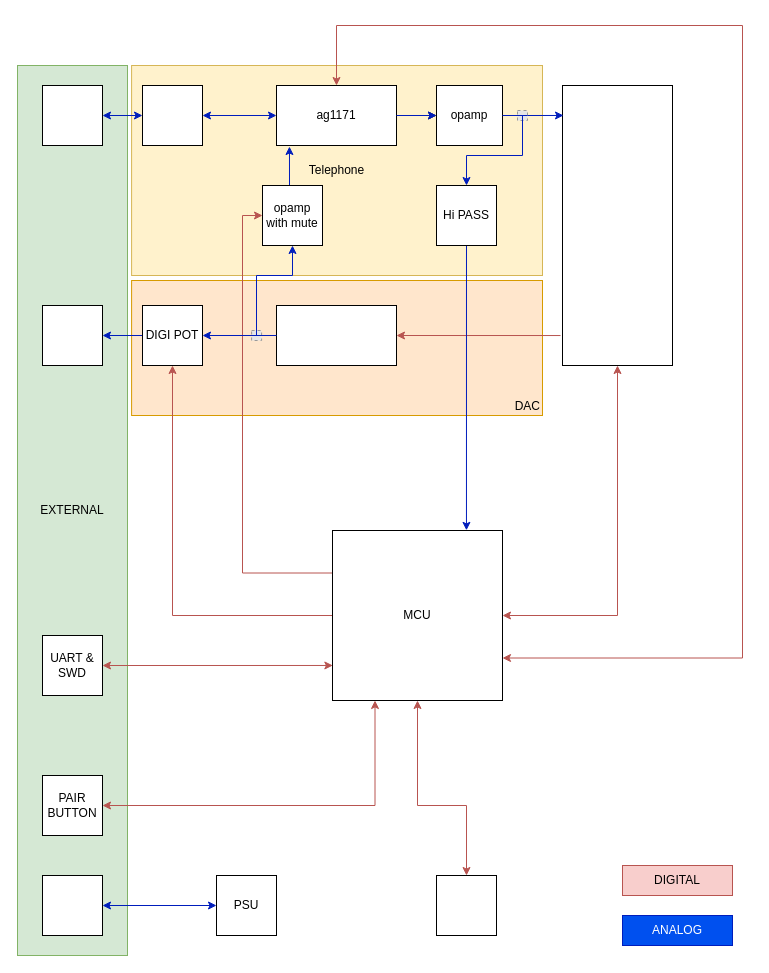
This 769x973 diagram has some shape labels left out. Grey dashed boxes stand in for pictures. Here are the shapes that lost their labels. From the top down, the centre of each, then its label:
At (x=72, y=115): "RJ11".
At (x=172, y=115): "protec".
At (x=617, y=225): "BLUETACH".
At (x=72, y=335): "CHINCH".
At (x=336, y=335): "I2S DAC".
At (x=72, y=905): "SUPPLY JACK".
At (x=466, y=905): "BUTTONS & LEDS".
